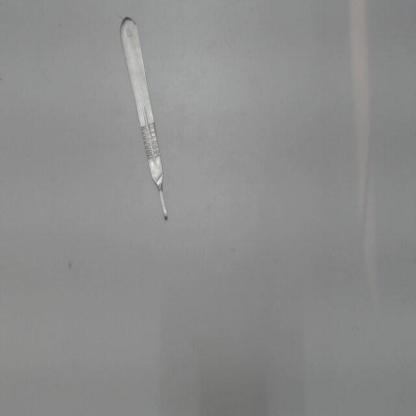No.3 BP Handle: (108, 9, 181, 231)
